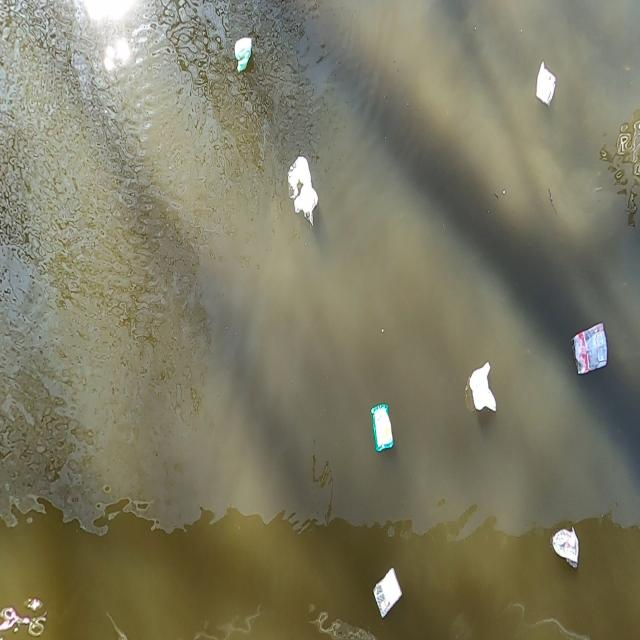Sac plastique: (567, 316, 613, 380), (284, 149, 318, 228), (366, 564, 407, 625), (463, 360, 501, 422), (548, 522, 585, 573), (369, 405, 396, 459), (532, 58, 560, 110), (230, 34, 258, 78)
